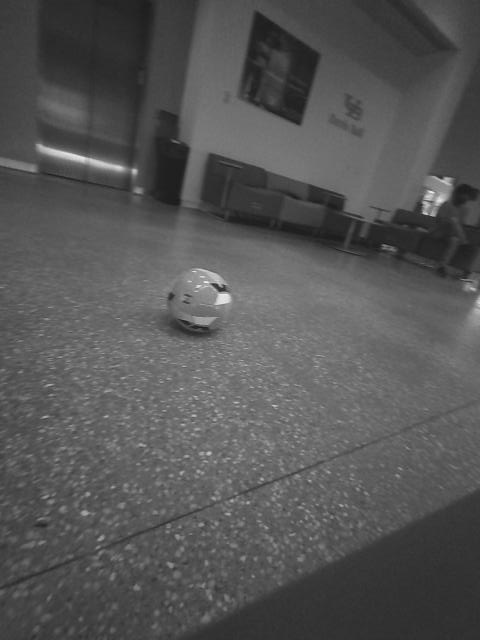ball: (1, 153, 10, 177)
